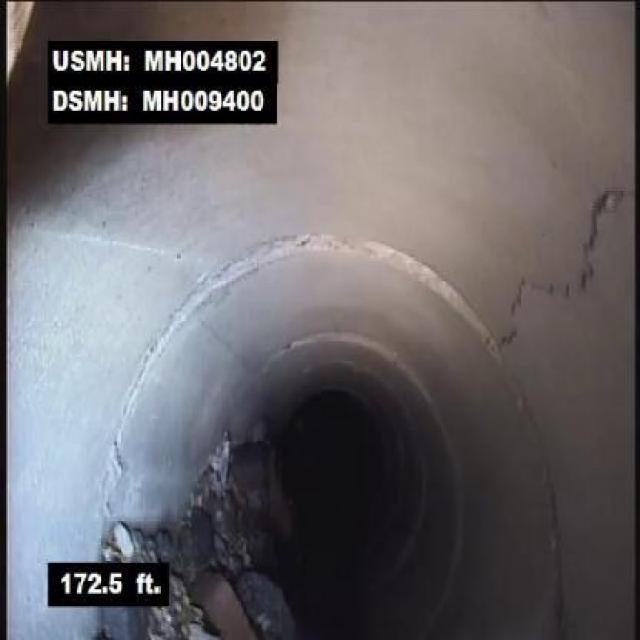Crack: (500, 177, 629, 351)
Debris: (94, 440, 301, 638)
